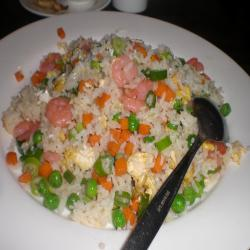rice: (19, 45, 207, 218)
